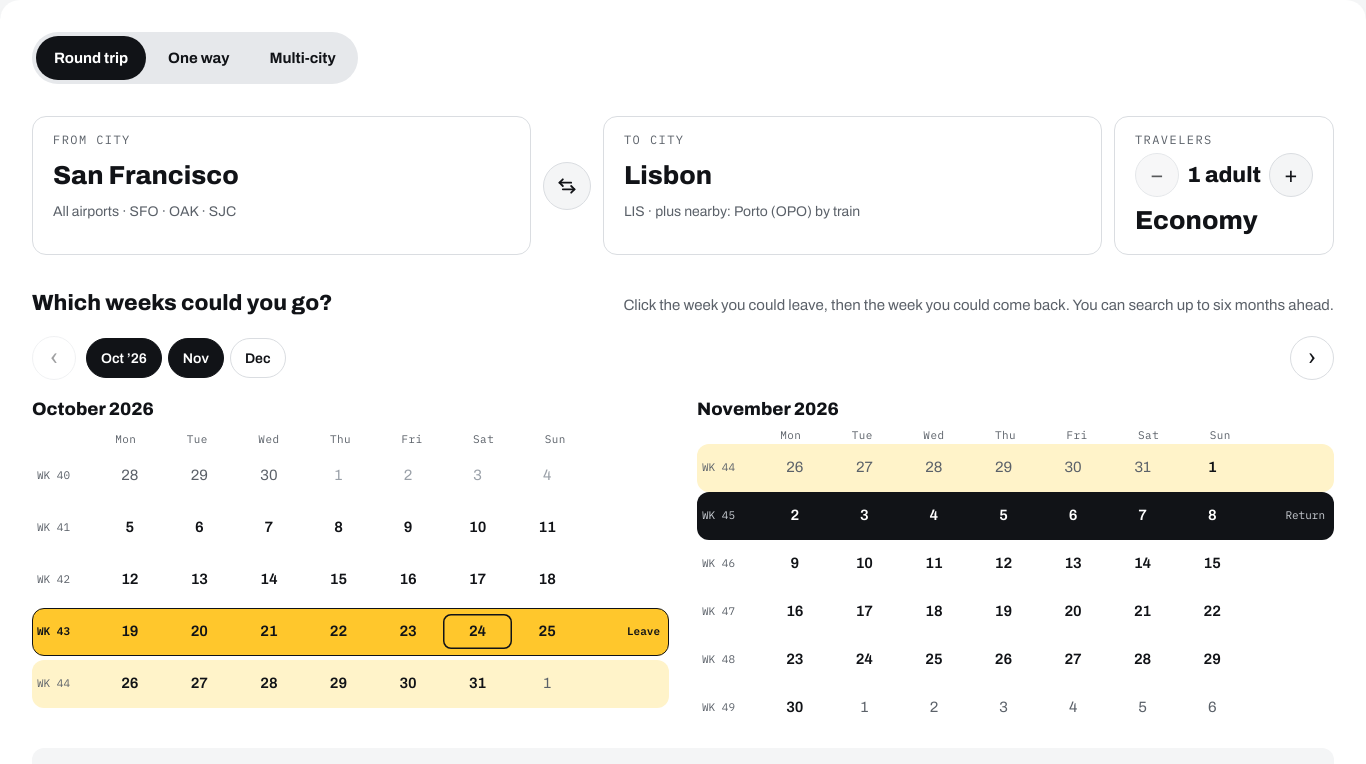
Test: trip type tabs › one way asks for a single week, has no return and no stay length
The image size is (1366, 764).
Step 1. Click the button "One way" → (199, 58), box 150,36 -> 247,80
(page scrolled)
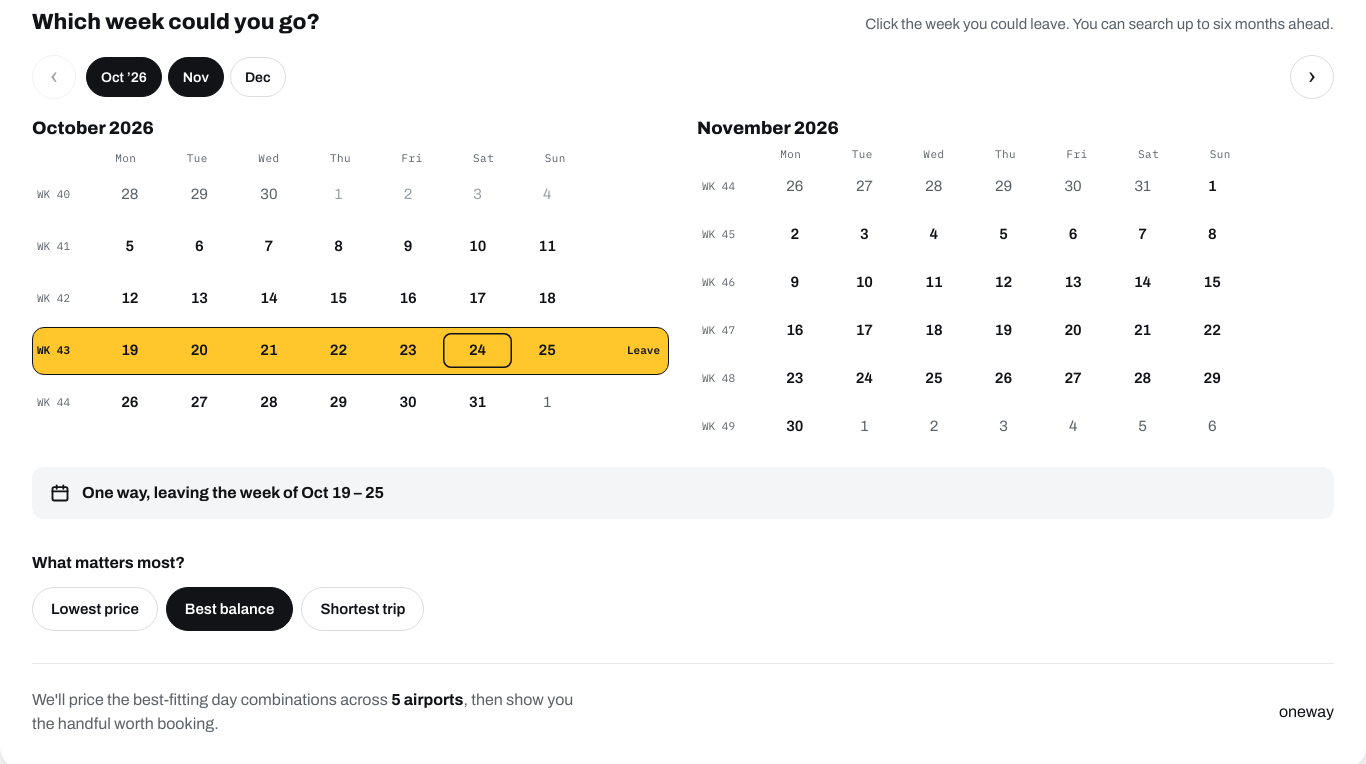
Expected: the heading "Which week could you go?" is shown, 32,6 -> 320,39
Expected: the text "One way, leaving the week of Oct 19 – 25" is shown, 82,480 -> 384,504
